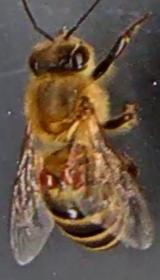varroa_mite: (35, 163, 57, 194)
